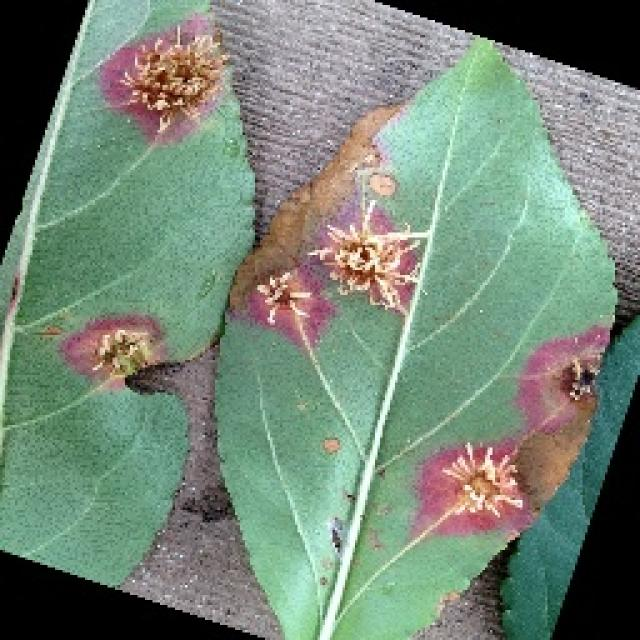Gymnosporangium_Rusts: (0, 0, 632, 637)
